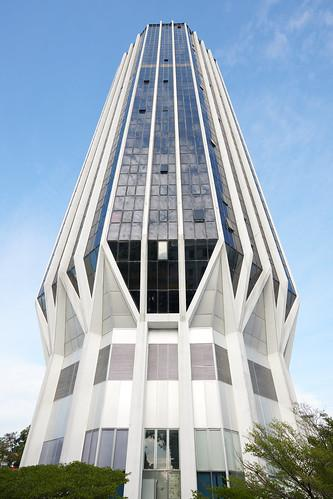building: (27, 15, 308, 499)
